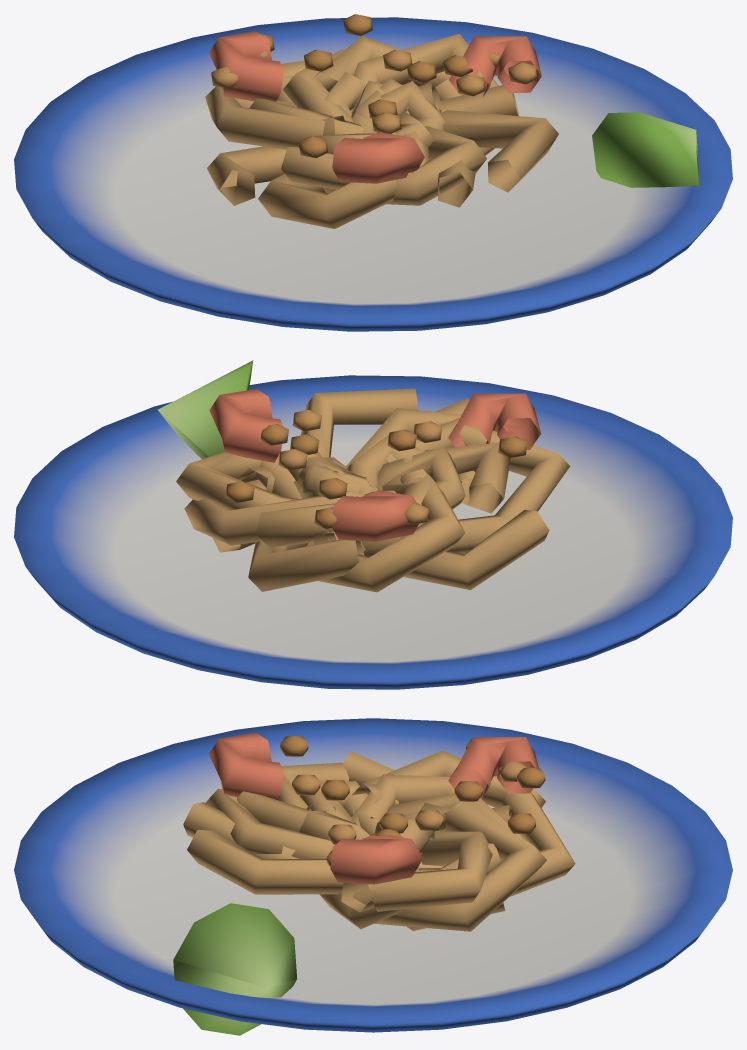
Rendered from item_dish_pad_thai.glb.
3 views of the same model, one above another, from view 1: azimuth 30°, elevation 25°; view 2: azimuth 150°, elevation 25°; view 3: azimuth 270°, elevation 25° (orthographic).
Visible parts, largest first — view 1: item_dish_pad_thai_main; view 2: item_dish_pad_thai_main; view 3: item_dish_pad_thai_main.
Part boxes in pixels (bbox=[...]): item_dish_pad_thai_main: bbox=[14, 14, 732, 331]; item_dish_pad_thai_main: bbox=[14, 360, 732, 689]; item_dish_pad_thai_main: bbox=[14, 718, 732, 1035].
Bounding box in the file's own units: 0.26 × 0.0626 × 0.26.
